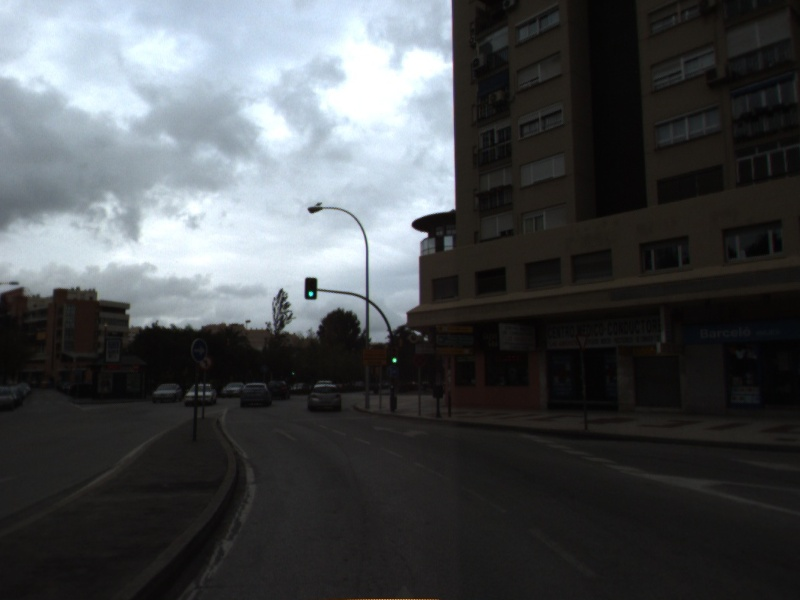STRAIGHT: (269, 425, 299, 442)
STRAIGHT_RIGHT: (372, 424, 431, 440)
